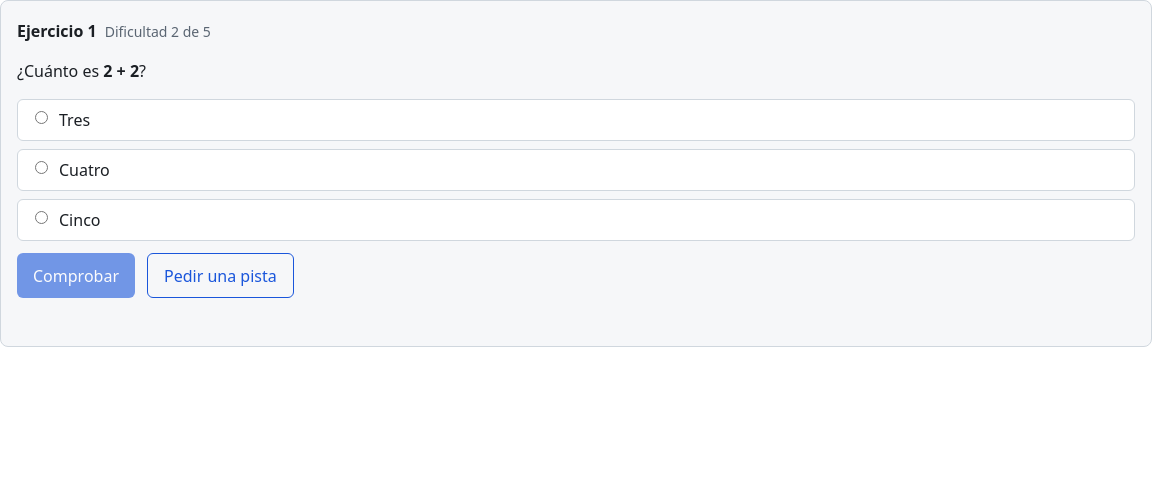
Test case: ExerciseCard › multiple choice › shows the XP earned and any achievement unlocked by the answer
Step 1. Click the radio button labelled "Cuatro" → (42,168), box [35,161,48,174]
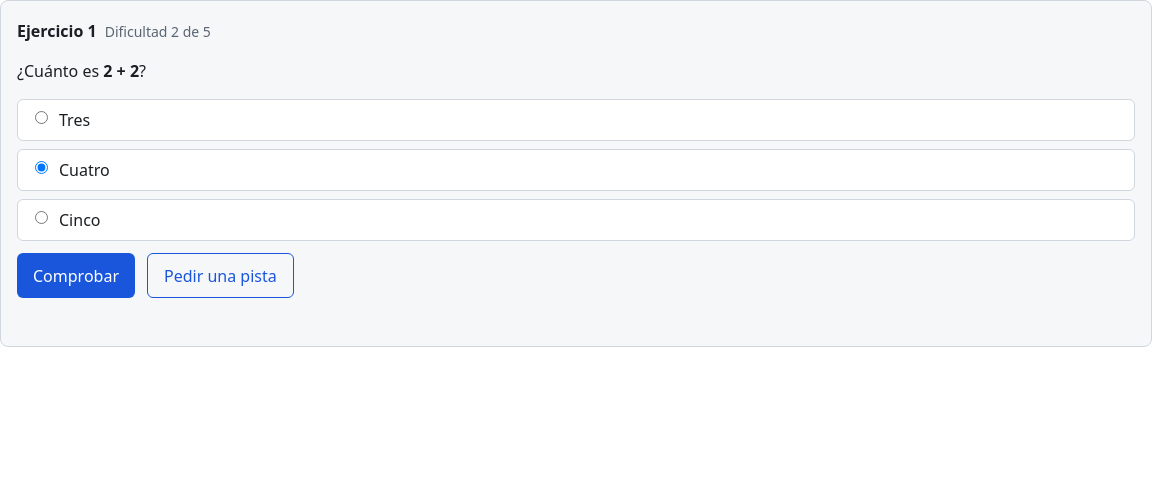
Step 2. Click the button "Comprobar" → (76,276), box [17,253,135,298]
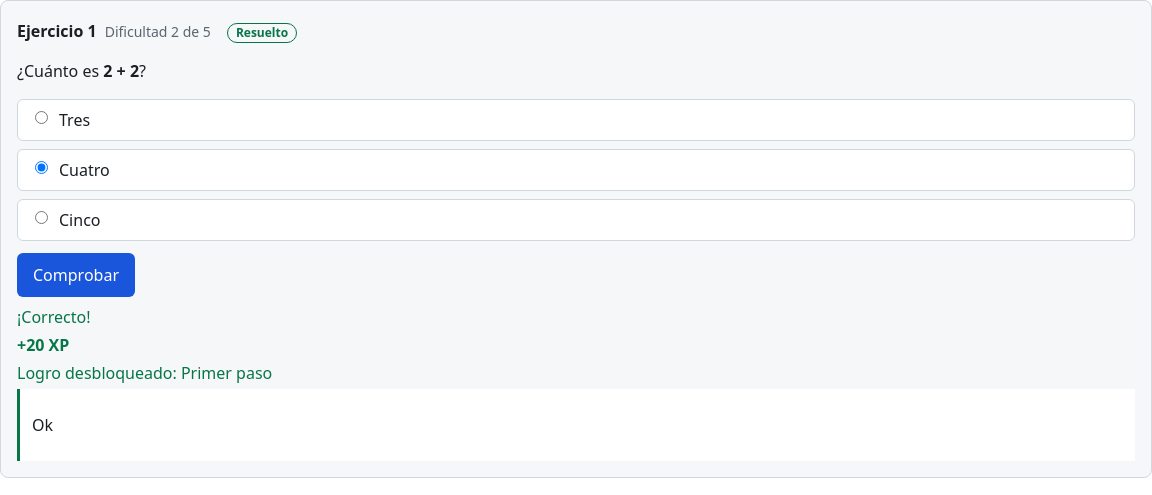
Expected: the text "+20 XP" is shown, [17,334,69,356]
Expected: the text "Logro desbloqueado: Primer paso" is shown, [17,362,272,384]
